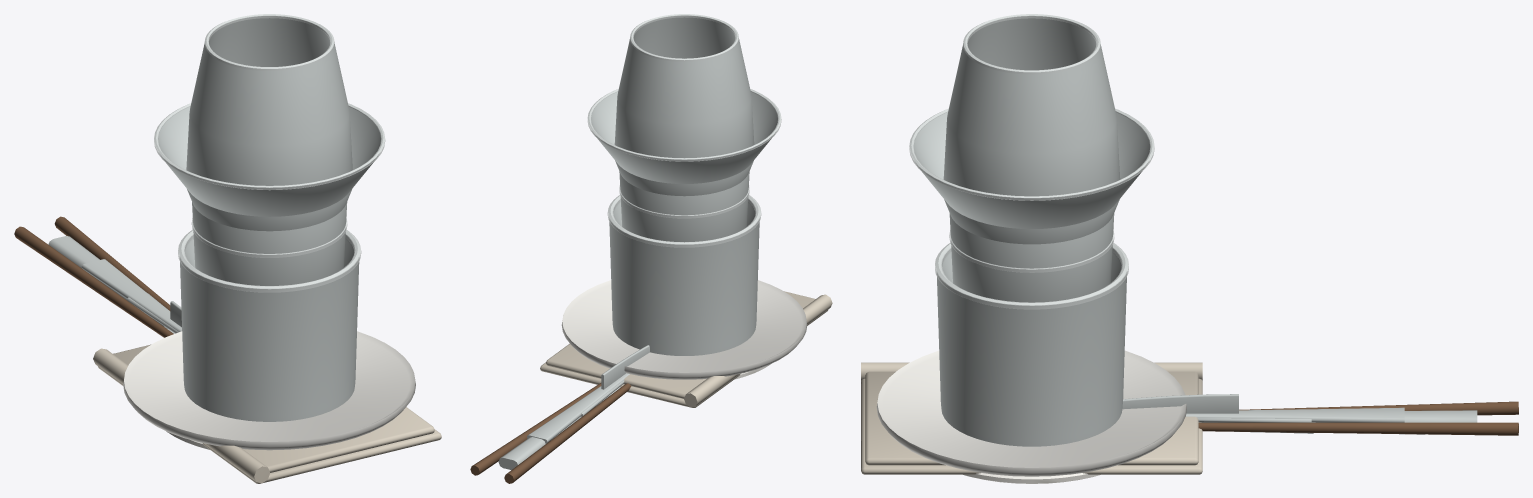
The model's file is tableware-lod0.glb.
The picture shows the model from 3 angles, left to right: view 1: azimuth 30°, elevation 25°; view 2: azimuth 150°, elevation 25°; view 3: azimuth 270°, elevation 25°; orthographic projection. The views are drawn at different scales.
Visible parts, largest first — view 1: wine.lod0__table glass, rocks.lod0__table glass, saucer.lod0__table porcelain, coupe.lod0__table glass, tulip.lod0__table glass, napkin.lod0__oatmeal linen, chopsticks.lod0__chopstick walnut, rocks.lod0__table glass rim, spoon.lod0__furniture polished nickel, coupe.lod0__table glass rim, wine.lod0__table glass rim, knife.lod0__furniture polished nickel (+2 smaller); view 2: wine.lod0__table glass, rocks.lod0__table glass, saucer.lod0__table porcelain, coupe.lod0__table glass, tulip.lod0__table glass, napkin.lod0__oatmeal linen, chopsticks.lod0__chopstick walnut, knife.lod0__furniture polished nickel, rocks.lod0__table glass rim, spoon.lod0__furniture polished nickel, coupe.lod0__table glass rim, wine.lod0__table glass rim (+2 smaller); view 3: wine.lod0__table glass, rocks.lod0__table glass, saucer.lod0__table porcelain, coupe.lod0__table glass, tulip.lod0__table glass, napkin.lod0__oatmeal linen, chopsticks.lod0__chopstick walnut, knife.lod0__furniture polished nickel, spoon.lod0__furniture polished nickel, rocks.lod0__table glass rim, coupe.lod0__table glass rim, wine.lod0__table glass rim (+3 smaller).
Part boxes in pixels (x1,y1,x2,y2): wine.lod0__table glass: (186, 14, 352, 231); rocks.lod0__table glass: (179, 230, 360, 421); saucer.lod0__table porcelain: (123, 331, 415, 450); coupe.lod0__table glass: (154, 103, 384, 216); tulip.lod0__table glass: (192, 202, 347, 285); napkin.lod0__oatmeal linen: (93, 344, 441, 483); chopsticks.lod0__chopstick walnut: (14, 216, 173, 337); rocks.lod0__table glass rim: (178, 230, 361, 292); spoon.lod0__furniture polished nickel: (81, 259, 181, 331); coupe.lod0__table glass rim: (154, 103, 385, 190); wine.lod0__table glass rim: (204, 14, 334, 70); knife.lod0__furniture polished nickel: (48, 236, 181, 328); wine.lod0__table glass: (614, 14, 754, 196); rocks.lod0__table glass: (608, 195, 760, 355); saucer.lod0__table porcelain: (561, 280, 807, 379); coupe.lod0__table glass: (588, 89, 780, 183); tulip.lod0__table glass: (619, 171, 749, 242); napkin.lod0__oatmeal linen: (540, 291, 832, 407); chopsticks.lod0__chopstick walnut: (470, 383, 631, 483); knife.lod0__furniture polished nickel: (498, 345, 649, 469); rocks.lod0__table glass rim: (607, 195, 761, 247); spoon.lod0__furniture polished nickel: (527, 373, 629, 443); coupe.lod0__table glass rim: (587, 89, 781, 161); wine.lod0__table glass rim: (630, 14, 738, 61); wine.lod0__table glass: (943, 14, 1120, 244); rocks.lod0__table glass: (935, 243, 1128, 446); saucer.lod0__table porcelain: (876, 350, 1186, 476); coupe.lod0__table glass: (909, 109, 1153, 228); tulip.lod0__table glass: (949, 213, 1114, 302); napkin.lod0__oatmeal linen: (861, 362, 1202, 474); chopsticks.lod0__chopstick walnut: (1198, 401, 1518, 435); knife.lod0__furniture polished nickel: (1122, 394, 1477, 422); spoon.lod0__furniture polished nickel: (1186, 407, 1404, 422); rocks.lod0__table glass rim: (935, 243, 1128, 309); coupe.lod0__table glass rim: (909, 108, 1154, 200); wine.lod0__table glass rim: (963, 14, 1100, 74).
Size of the model in its own units: 0.15 by 0.2094 by 0.3176.
